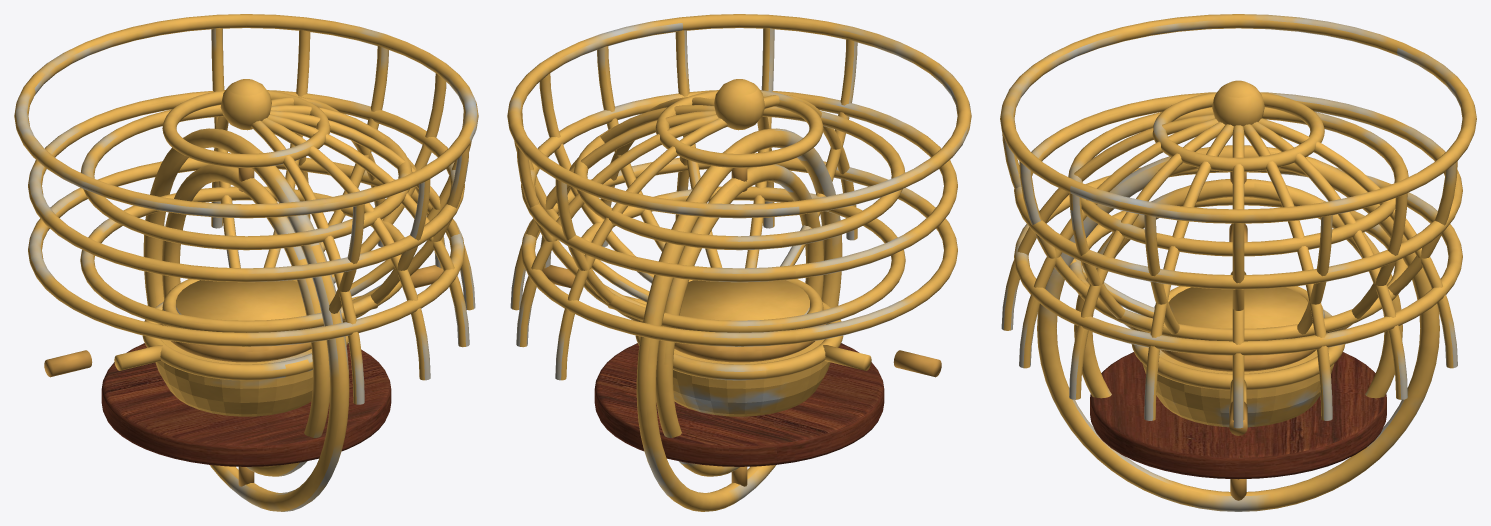
File: censer.glb
3 renders of one model, left to right at view 1: azimuth 30°, elevation 25°; view 2: azimuth 150°, elevation 25°; view 3: azimuth 270°, elevation 25°, orthographic. The views are drawn at different scales.
Parts seen in each view (by area): view 1: cs_下半球, cs_上半球, cs_stand, cs_外环, cs_香盂, cs_内环; view 2: cs_下半球, cs_上半球, cs_stand, cs_外环, cs_香盂, cs_内环; view 3: cs_下半球, cs_上半球, cs_stand, cs_外环, cs_香盂, cs_内环.
Part boxes in pixels (x1,y1,x2,y2): cs_下半球: (14,14,478,346); cs_上半球: (28,79,475,404); cs_stand: (101,309,391,466); cs_外环: (44,128,443,511); cs_香盂: (114,296,377,416); cs_内环: (162,164,329,486); cs_下半球: (507,14,971,346); cs_上半球: (510,79,957,380); cs_stand: (594,309,884,466); cs_外环: (542,128,941,511); cs_香盂: (608,296,871,416); cs_内环: (656,164,823,486); cs_下半球: (1000,14,1476,341); cs_上半球: (1001,80,1462,428); cs_stand: (1090,318,1386,479); cs_外环: (1037,145,1439,511); cs_香盂: (1131,271,1345,427); cs_内环: (1074,172,1402,500).
Size of the model in its own units: 0.1444 by 0.143 by 0.1444.
4 materials, 3 textured.
